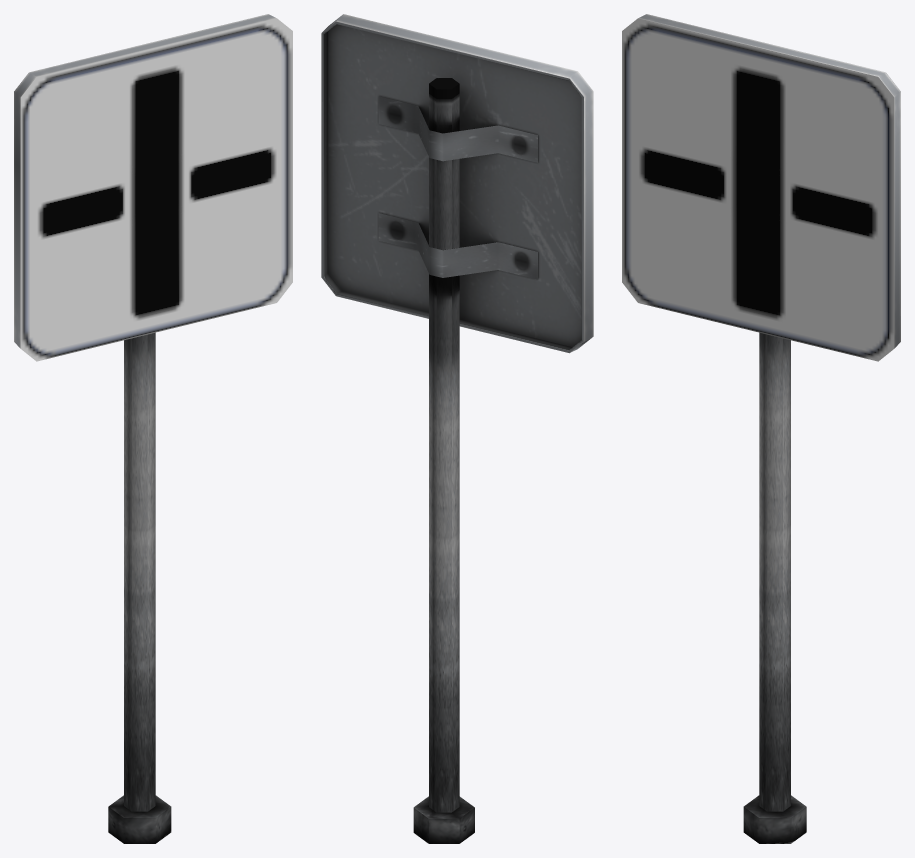
The model's file is ROD0310049.FBX.
3 renders of one model, left to right at view 1: azimuth 30°, elevation 25°; view 2: azimuth 150°, elevation 25°; view 3: azimuth 330°, elevation 25°, orthographic. The views are drawn at different scales.
Parts seen in each view (by area): view 1: smROD0310049; view 2: smROD0310049; view 3: smROD0310049.
Part boxes in pixels (x1,y1,x2,y2): smROD0310049: [14, 14, 292, 843]; smROD0310049: [321, 14, 593, 843]; smROD0310049: [622, 14, 900, 843].
Bounding box in the file's own units: 0.5079 × 1.42 × 0.1057.
Materials: 1 (1 with a texture image).
